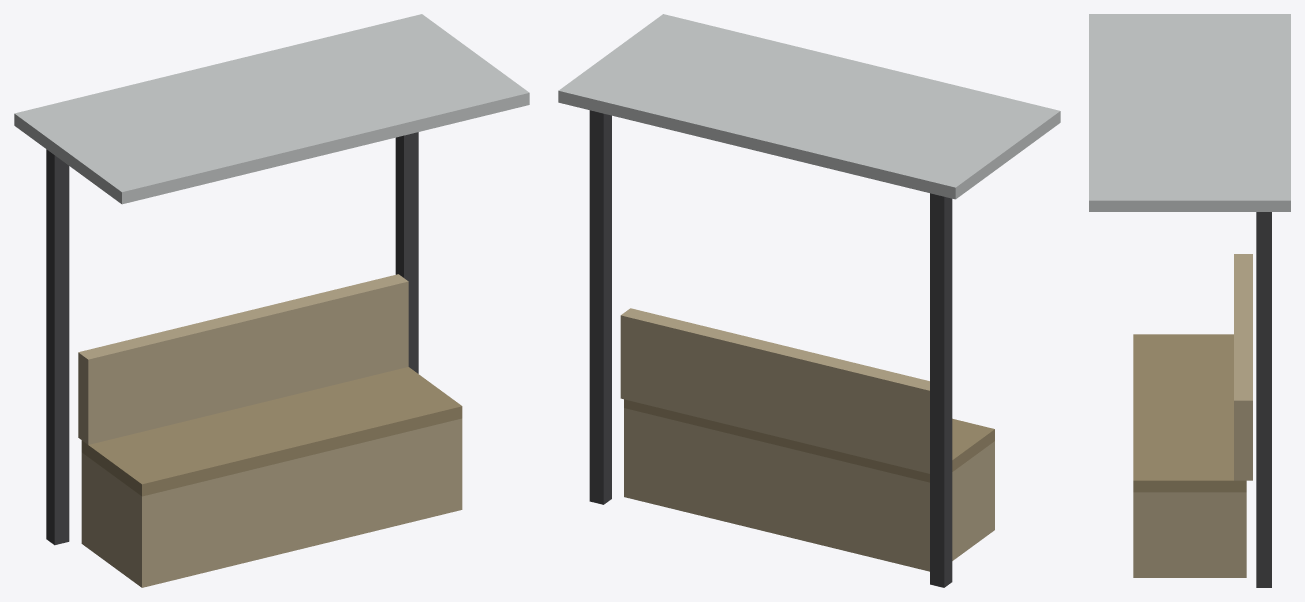
The model's file is w-shade-bench.glb.
3 views of the same model, side by side, from view 1: azimuth 30°, elevation 25°; view 2: azimuth 150°, elevation 25°; view 3: azimuth 270°, elevation 25° (orthographic). The views are drawn at different scales.
Visible parts, largest first — view 1: w-shade-bench; view 2: w-shade-bench; view 3: w-shade-bench.
Boxes of the visible parts, left/top/right/bottom form: w-shade-bench: left=14, top=14, right=529, bottom=587; w-shade-bench: left=558, top=14, right=1060, bottom=587; w-shade-bench: left=1089, top=14, right=1290, bottom=587.
Bounding box in the file's own units: 1.4 × 1.39 × 0.6399.
